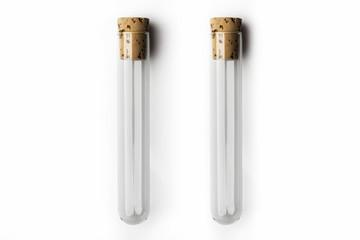Test tube: (209, 7, 245, 228), (116, 14, 150, 218)
